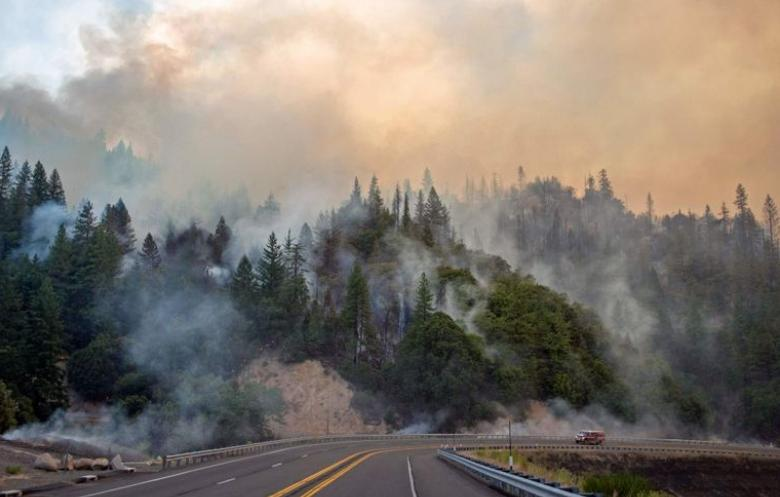smoke: (195, 114, 318, 220), (588, 214, 661, 325), (143, 296, 231, 371)
